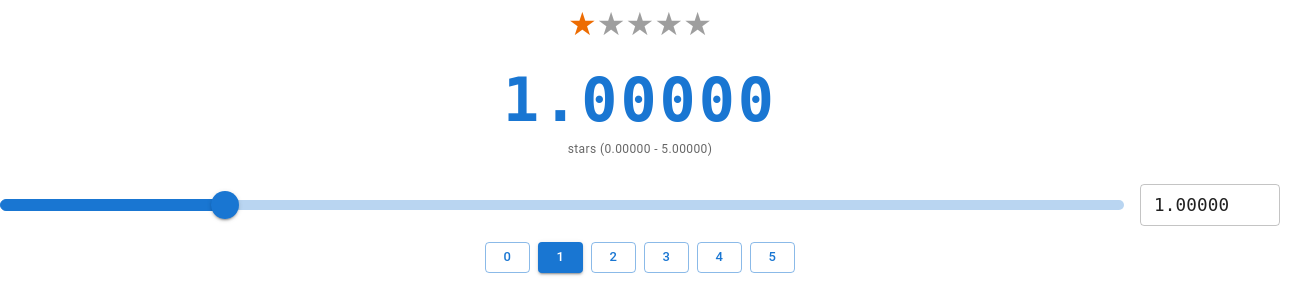
Test: PrecisionSlider › quick set buttons update value
Click the button "4": (720, 258) x1=697 y1=242 x2=742 y2=273
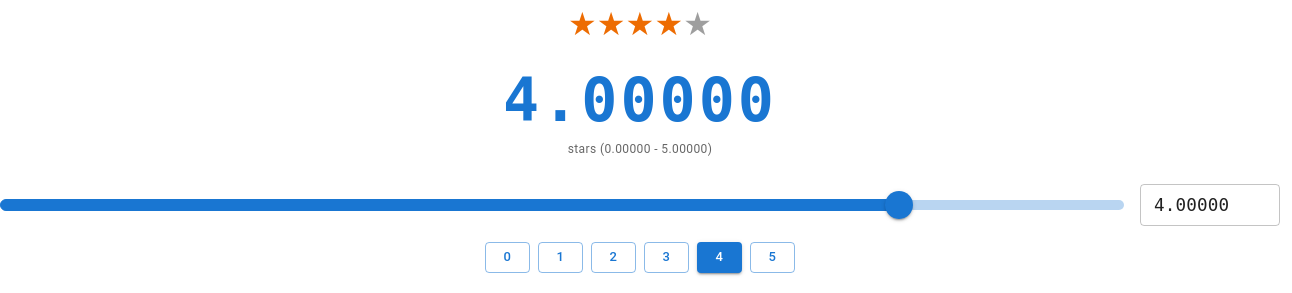
Now the heading "4.00000" is shown, box x1=503 y1=65 x2=777 y2=135
